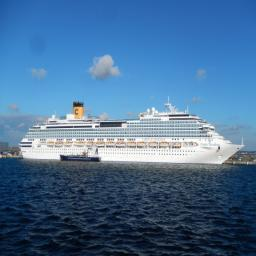cruises: (18, 98, 248, 168)
